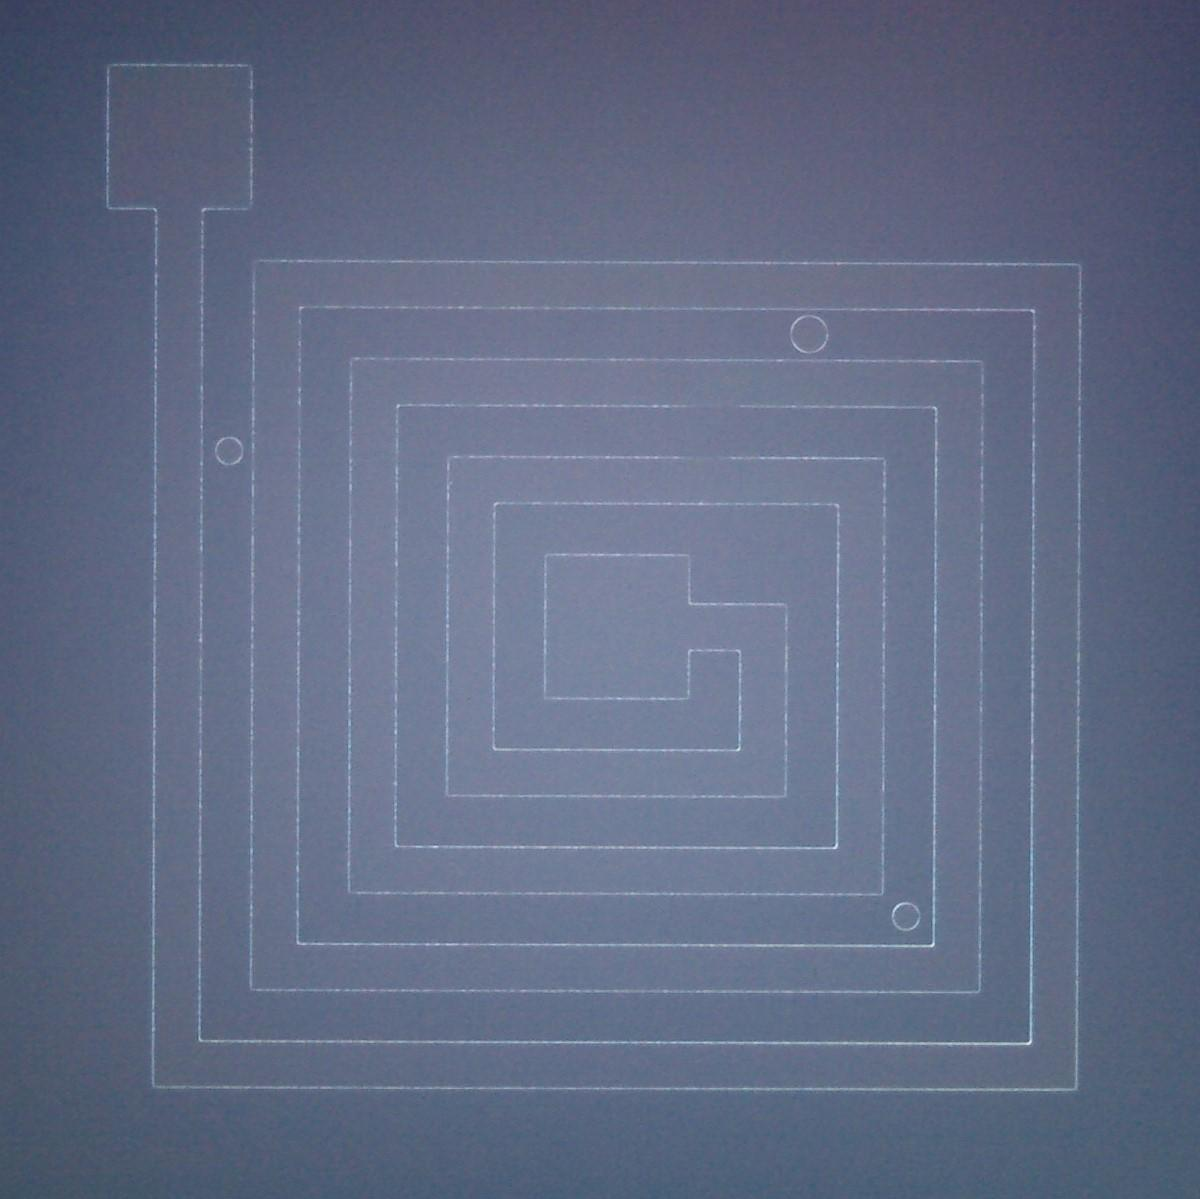circle: (789, 314, 829, 355), (214, 437, 245, 467), (891, 901, 921, 932)
